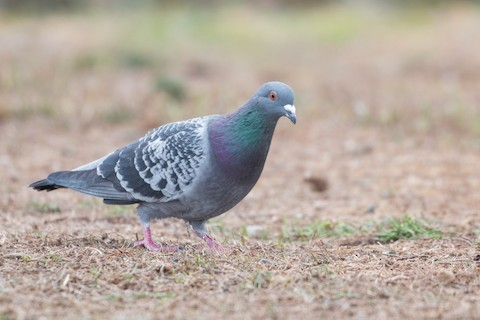pigeon: (20, 72, 304, 255)
